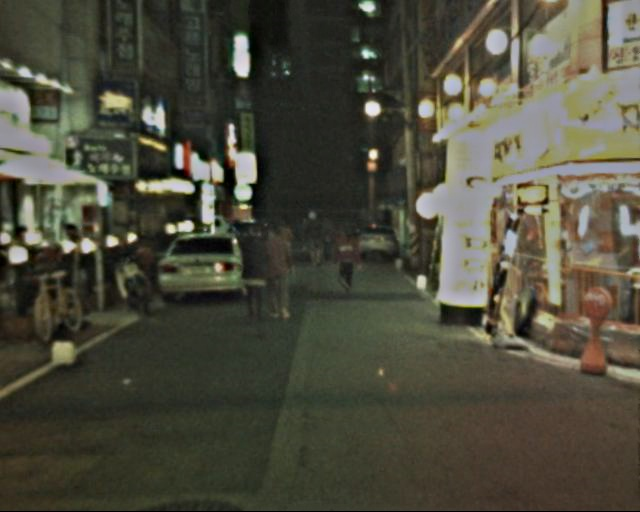person: (260, 224, 300, 329), (236, 223, 272, 328), (335, 223, 364, 294), (302, 206, 329, 270)
